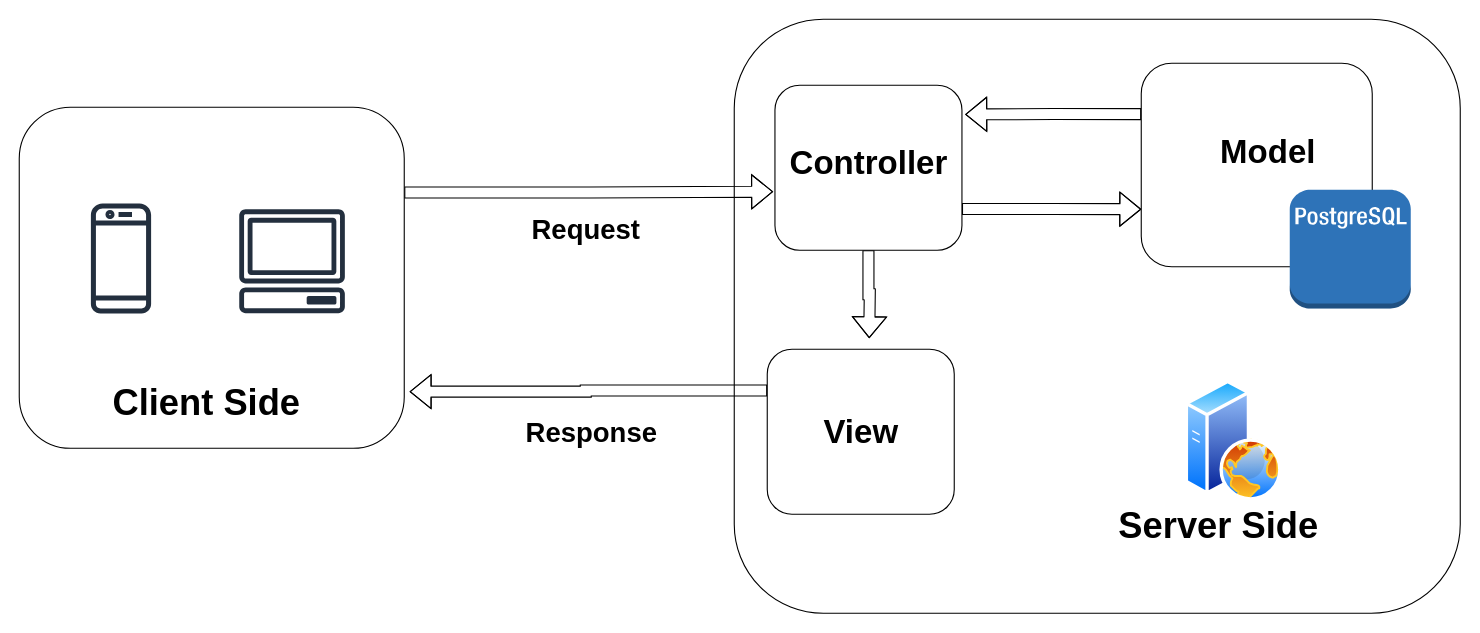
This 1480x633 diagram has some shape labels left out. The centre of each missing label's shape, as x and y in pixels:
"Client" goes at point (291, 260).
"Mobile client" goes at point (120, 258).
